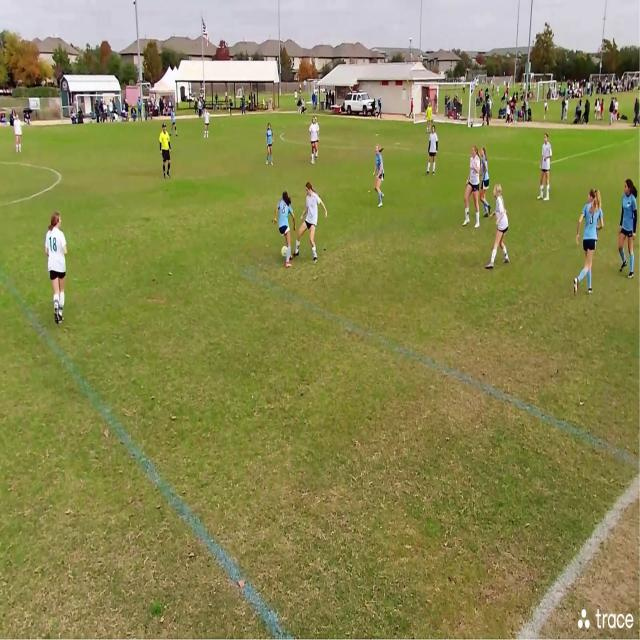ball: (281, 247, 286, 258)
team1: (575, 190, 606, 300), (617, 183, 639, 277), (275, 190, 295, 264), (478, 144, 494, 219), (374, 144, 387, 208), (266, 122, 275, 166), (171, 108, 179, 138)
team2: (44, 215, 70, 325), (485, 182, 513, 271), (298, 182, 325, 264), (466, 147, 487, 227), (540, 133, 555, 202), (429, 127, 441, 177), (308, 117, 320, 166), (14, 113, 24, 156), (203, 108, 210, 143)
